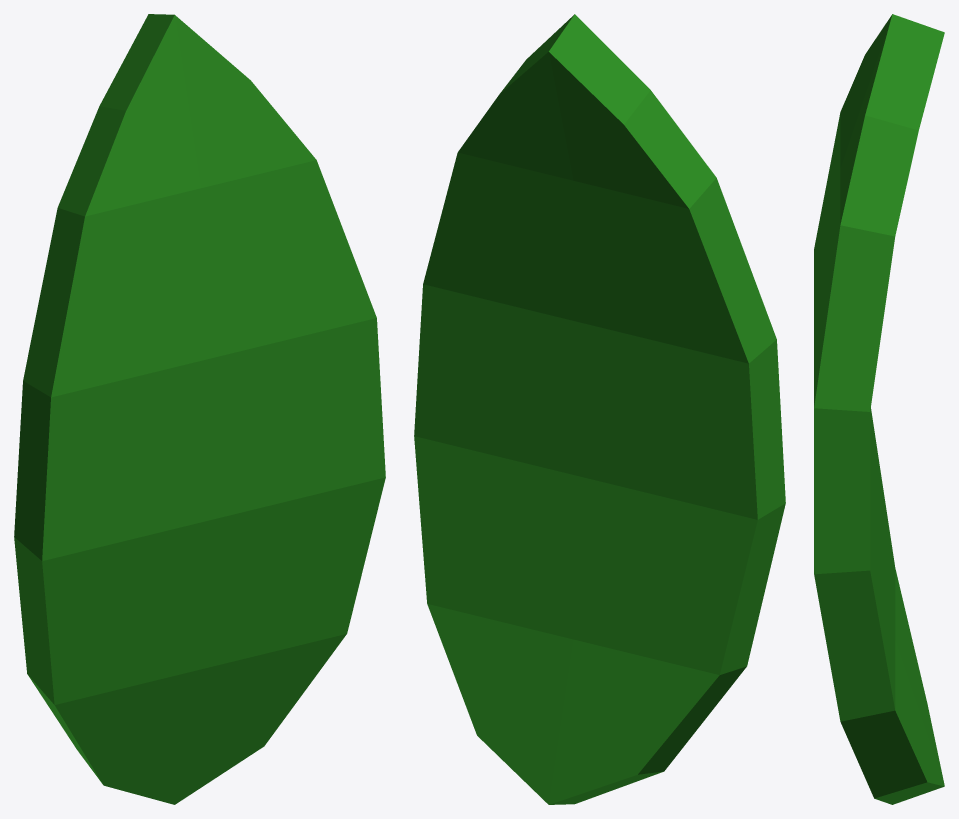
The model's file is Hoja1.fbx.
3 views of the same model, side by side, from view 1: azimuth 30°, elevation 25°; view 2: azimuth 150°, elevation 25°; view 3: azimuth 270°, elevation 25° (orthographic).
Parts seen in each view (by area): view 1: HojaBase_Verde; view 2: HojaBase_Verde; view 3: HojaBase_Verde.
Part boxes in pixels (left/top/right/bottom): HojaBase_Verde: left=14, top=14, right=385, bottom=804; HojaBase_Verde: left=414, top=14, right=785, bottom=804; HojaBase_Verde: left=814, top=14, right=944, bottom=804.
Bounding box in the file's own units: 4.46 × 9.79 × 1.47.
